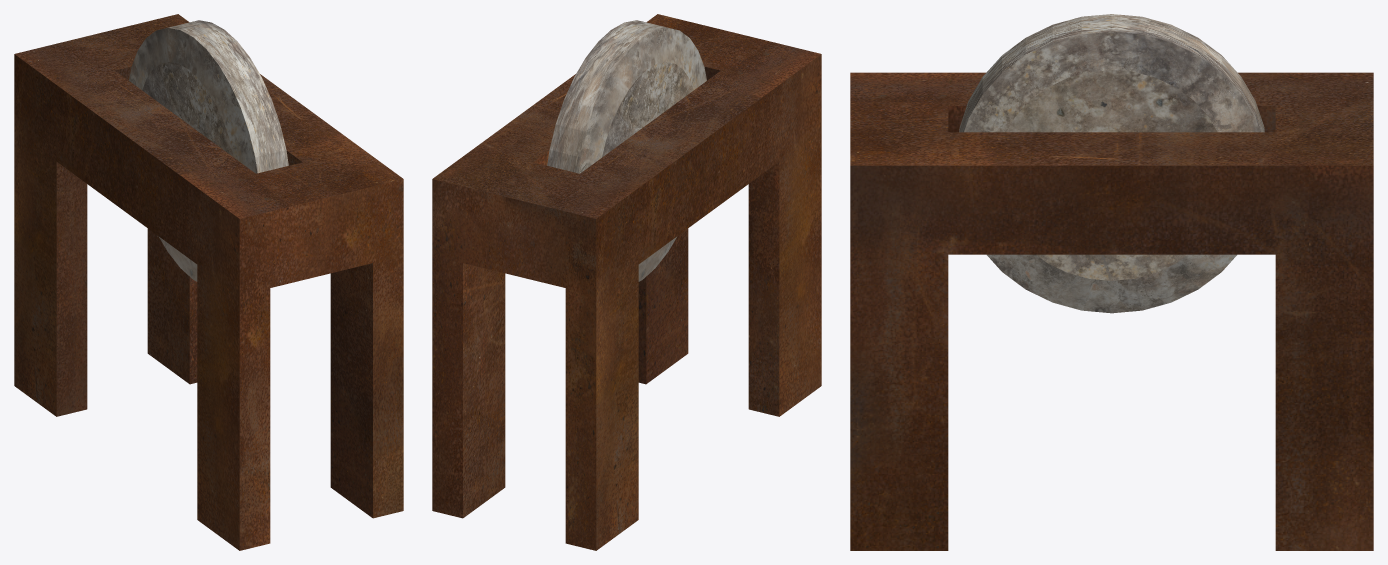
The model's file is grindstone.fbx.
The picture shows the model from 3 angles, left to right: view 1: azimuth 30°, elevation 25°; view 2: azimuth 150°, elevation 25°; view 3: azimuth 270°, elevation 25°; orthographic projection. The views are drawn at different scales.
Parts seen in each view (by area): view 1: Table, Grindstone; view 2: Table, Grindstone; view 3: Table, Grindstone.
Part boxes in pixels (box(x1,y1,x2,y2)): Table: box(14, 14, 403, 550); Grindstone: box(129, 20, 288, 281); Table: box(432, 14, 821, 550); Grindstone: box(547, 20, 706, 281); Table: box(850, 72, 1373, 550); Grindstone: box(959, 14, 1264, 313).
Bounding box in the file's own units: 0.336 × 0.8125 × 0.8.
